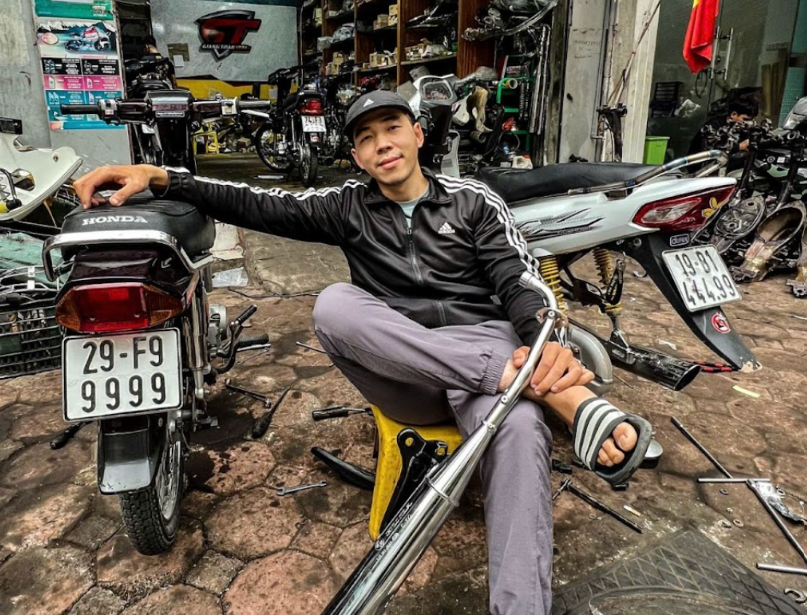bien_so: (55, 323, 188, 426), (657, 241, 742, 313)
